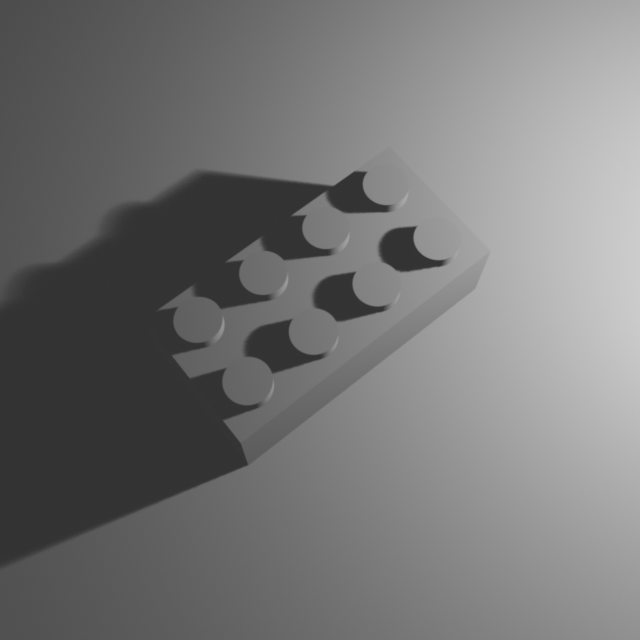lego_2x4: (141, 138, 494, 465)
